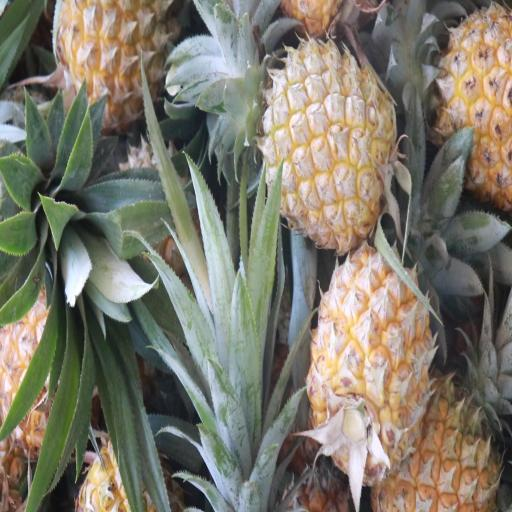------------------------------: (52, 0, 173, 116)
Pineapple - v8 v1: (261, 36, 396, 246), (310, 245, 428, 476), (368, 370, 501, 512), (418, 3, 512, 200)
